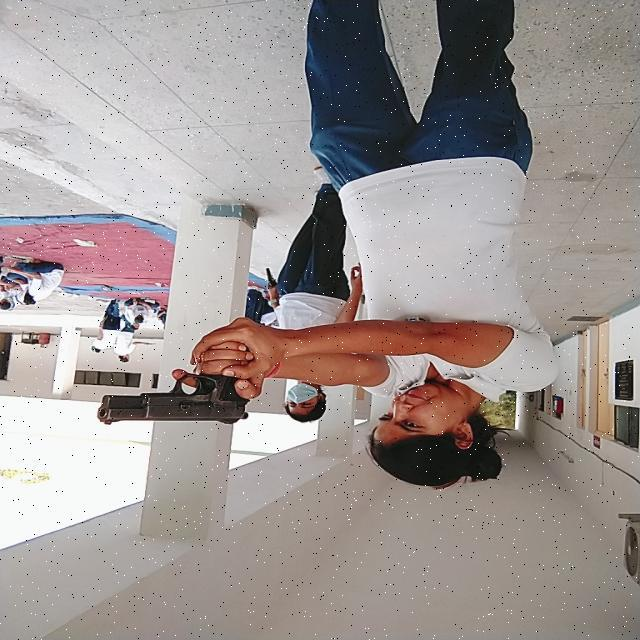gun: (91, 361, 263, 430)
